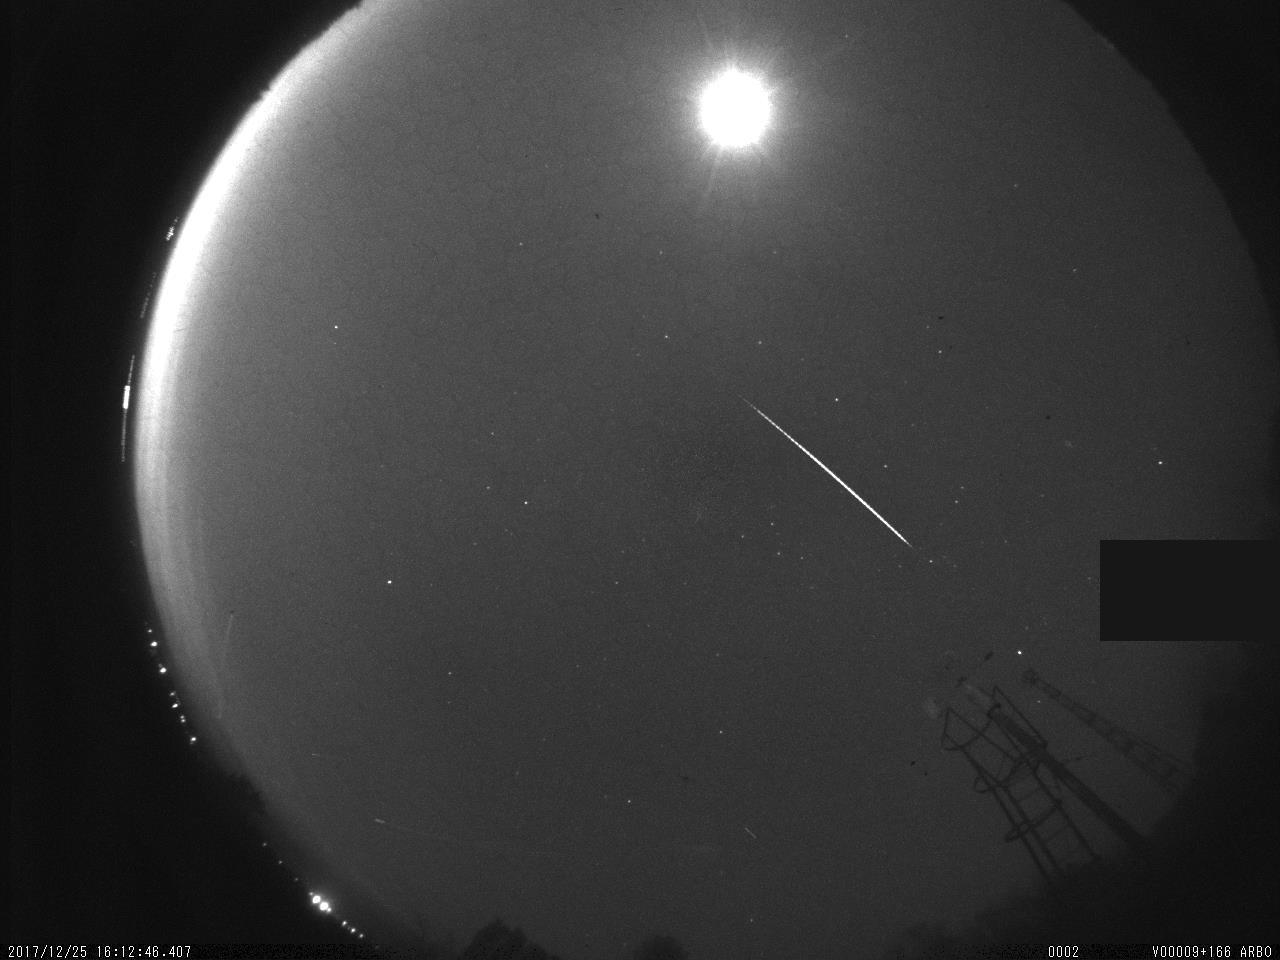meteor: (734, 380, 917, 557)
